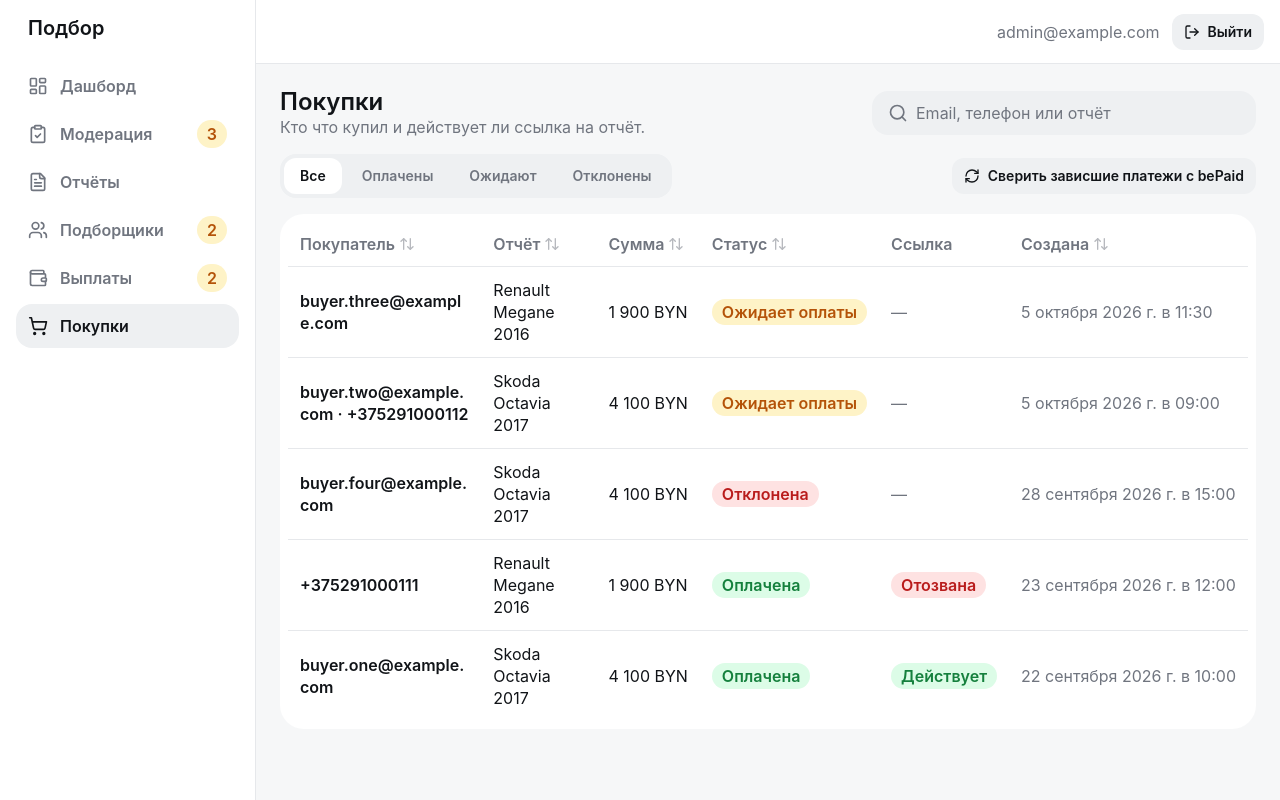
Test: карточка покупки › открывается по клику и адресуется через ?id=
The image size is (1280, 800).
What coordinates should you click on to do the following:
click the cell "buyer.one@example.com"
I would click on:
 (385, 675)
Its box is 288,630 -> 481,720.
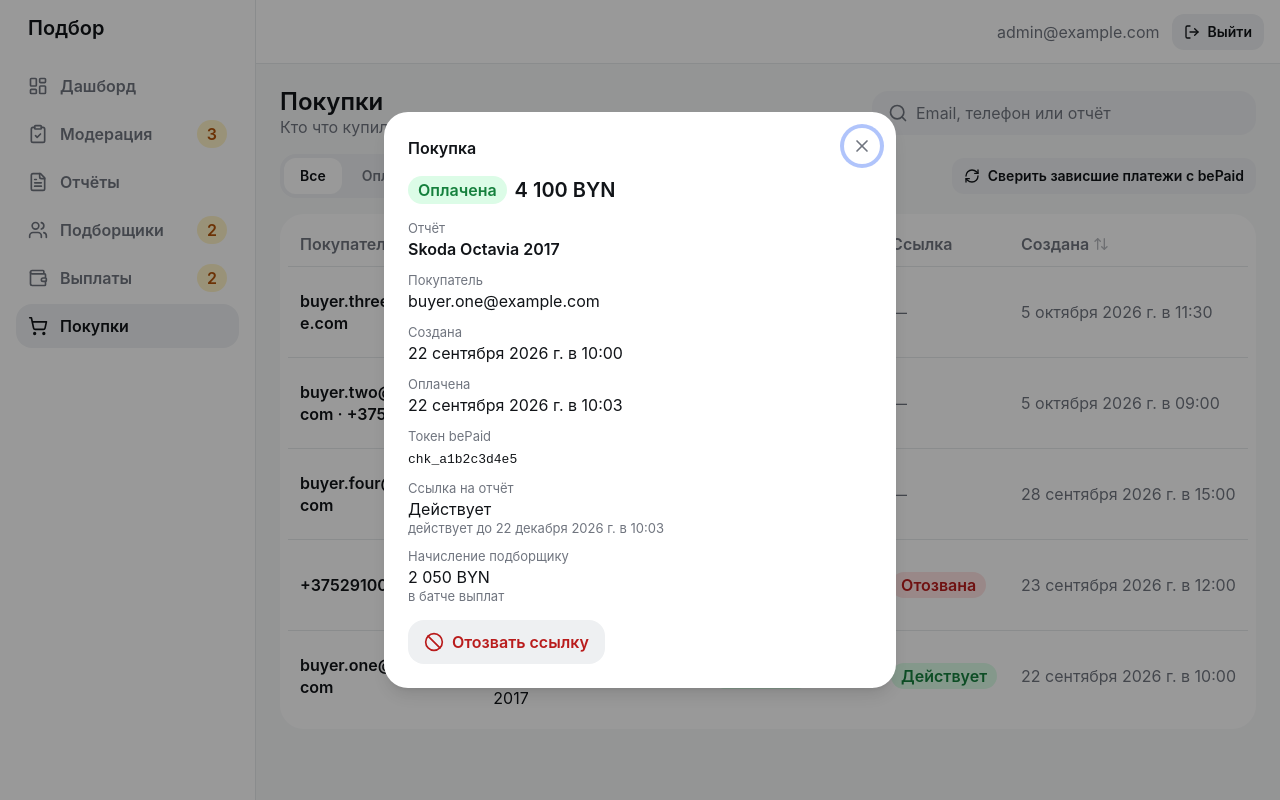
Now the text "4 100 BYN" is shown, box 515,178 -> 616,202
Now the text "chk_a1b2c3d4e5" is shown, box 408,452 -> 517,467
